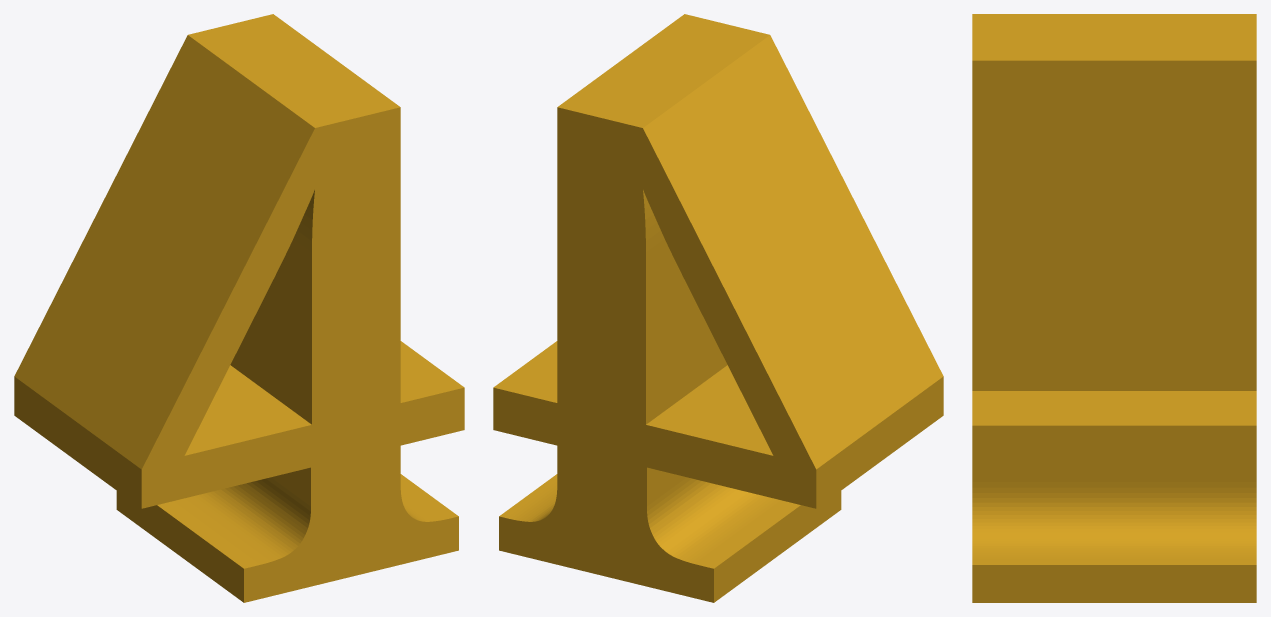
The model's file is tinker.obj.
3 views of the same model, side by side, from view 1: azimuth 30°, elevation 25°; view 2: azimuth 150°, elevation 25°; view 3: azimuth 270°, elevation 25° (orthographic). The views are drawn at different scales.
Visible parts, largest first — view 1: obj_0; view 2: obj_0; view 3: obj_0.
Part boxes in pixels (box(x1,y1,x2,y2)): obj_0: box(14, 14, 464, 602); obj_0: box(493, 14, 943, 602); obj_0: box(972, 14, 1256, 602).
Size of the model in its own units: 14.64 by 19.82 by 10.
